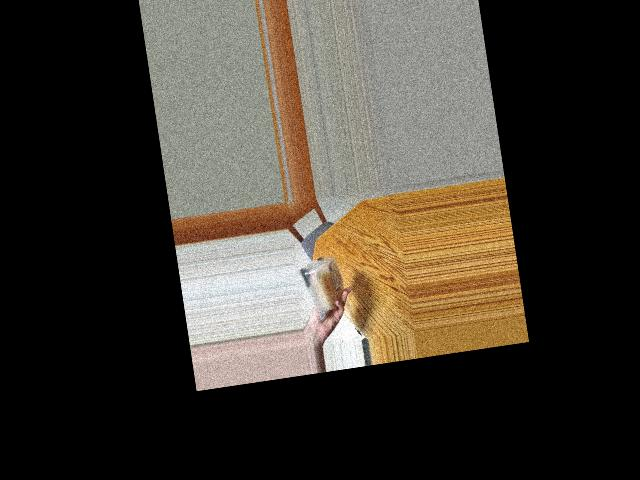cheese: (298, 252, 349, 315)
